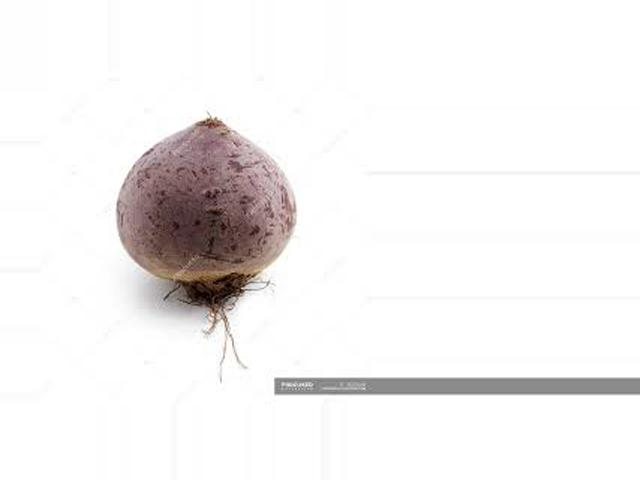beet: (115, 115, 298, 384)
